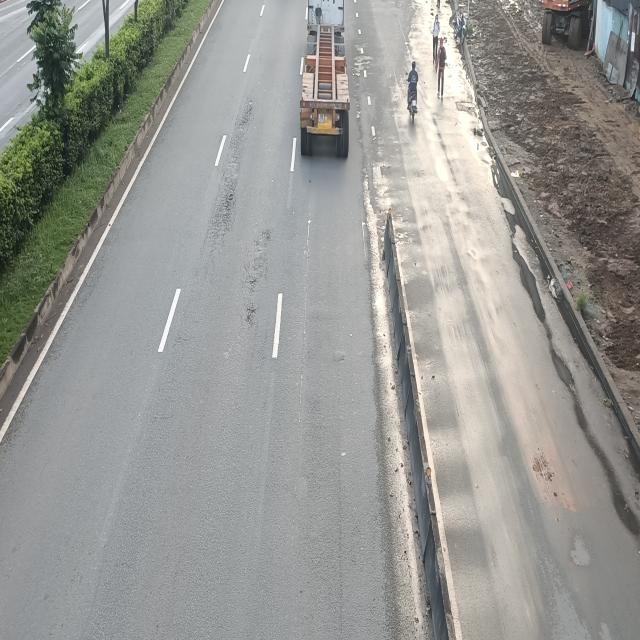container: (297, 0, 349, 158)
